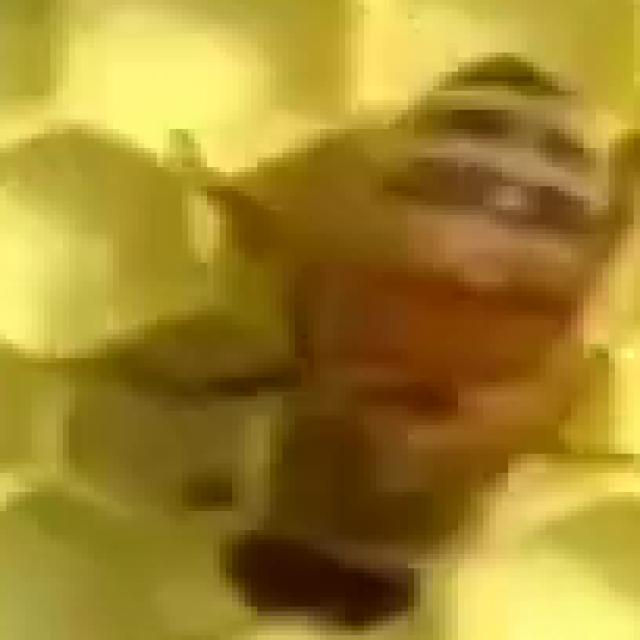honeybee: (198, 51, 603, 610)
